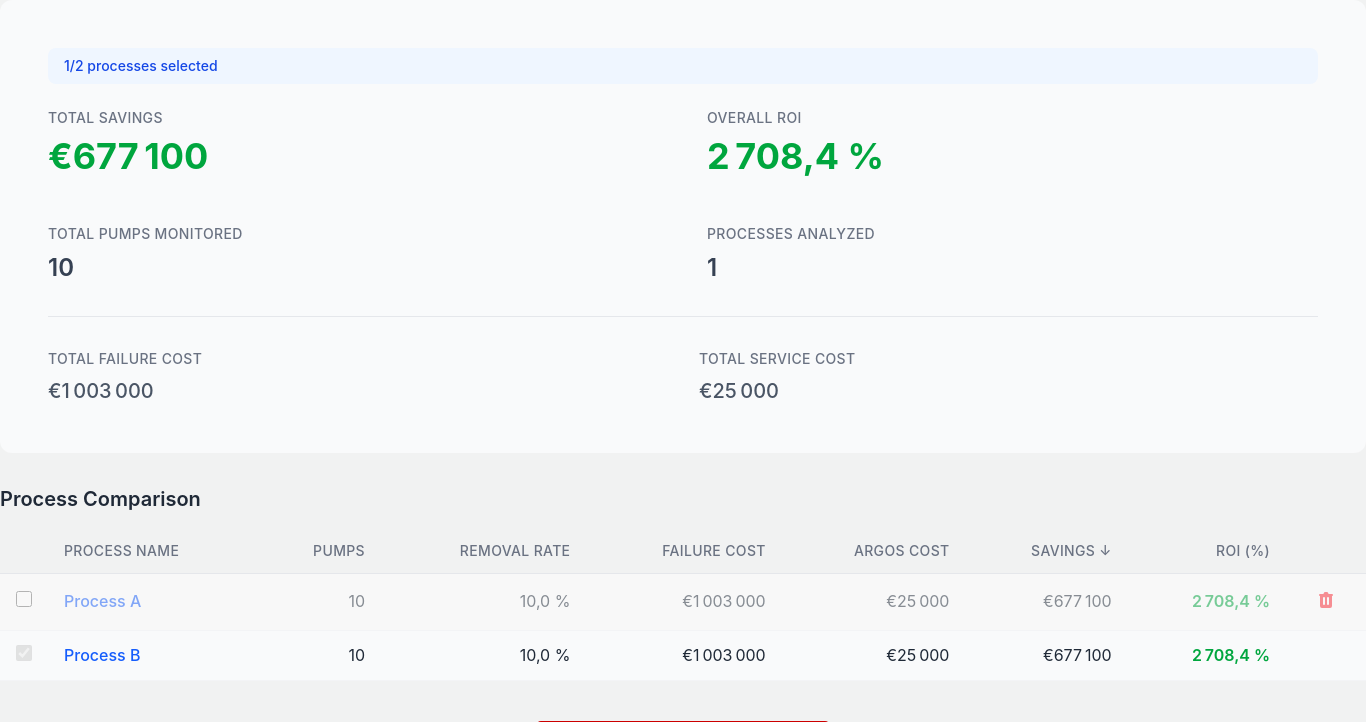
Test: GlobalAnalysisView › delete confirmation modal (Story 4.4 AC7) › clicking Annuler closes modal without deleting (AC7)
Click the button named "Delete Process A": (1326, 600) [1312,586,1340,614]
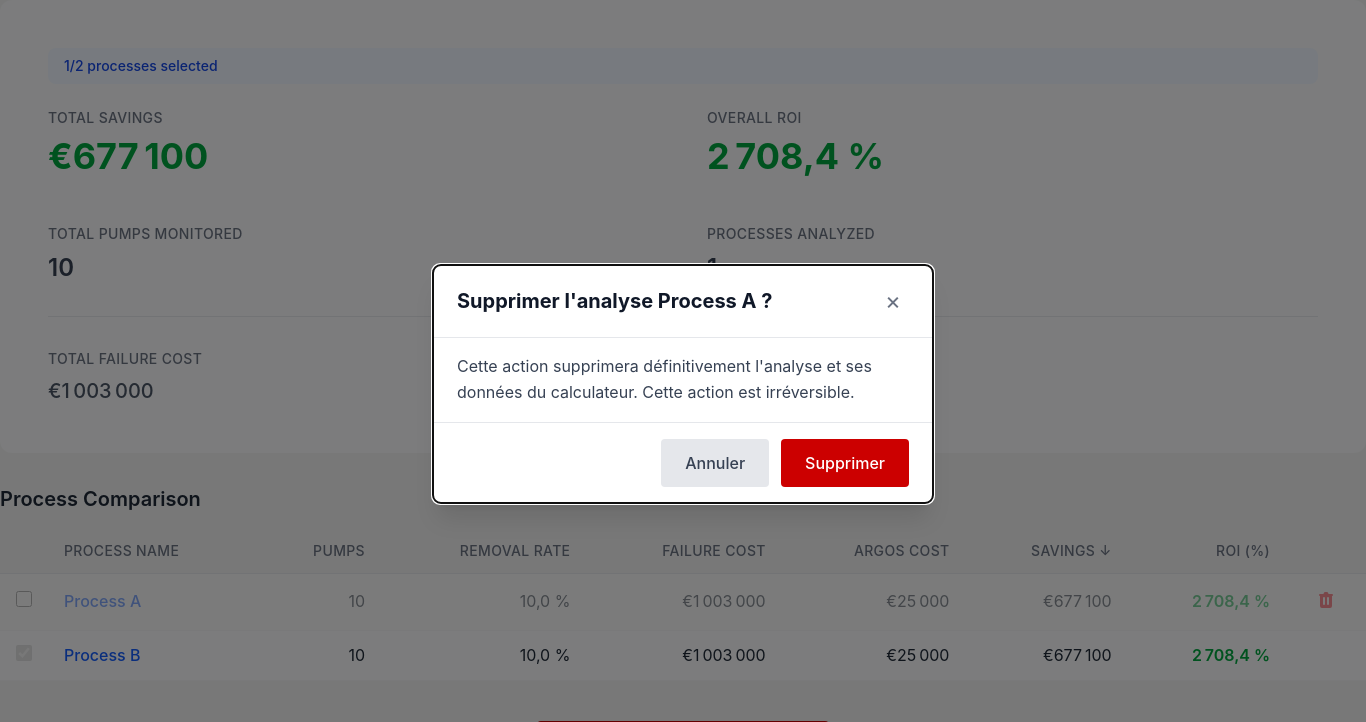
Click the button "Annuler": (715, 463) [661,439,769,487]
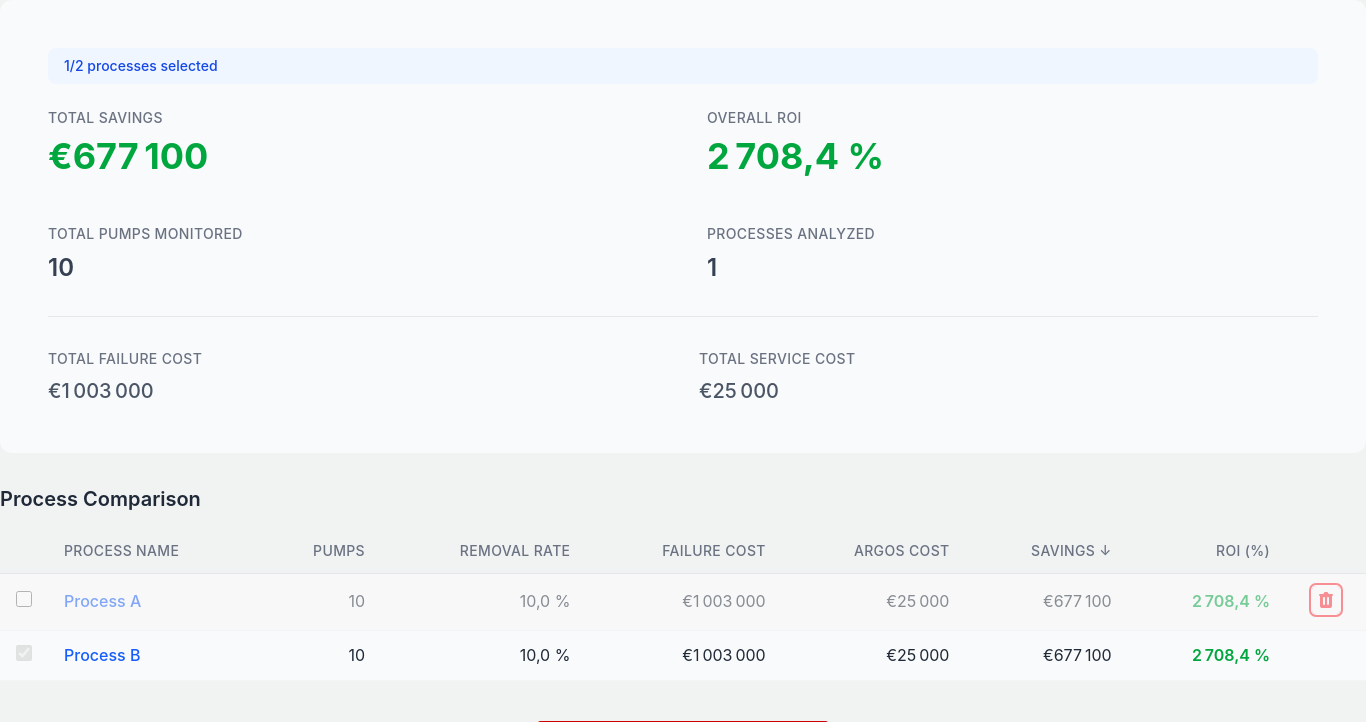
Expected: the dialog is gone
